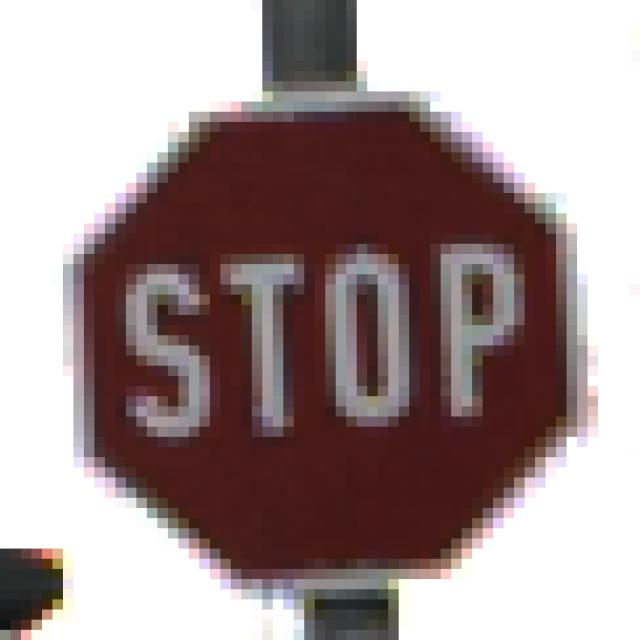STOP: (54, 62, 578, 580)
